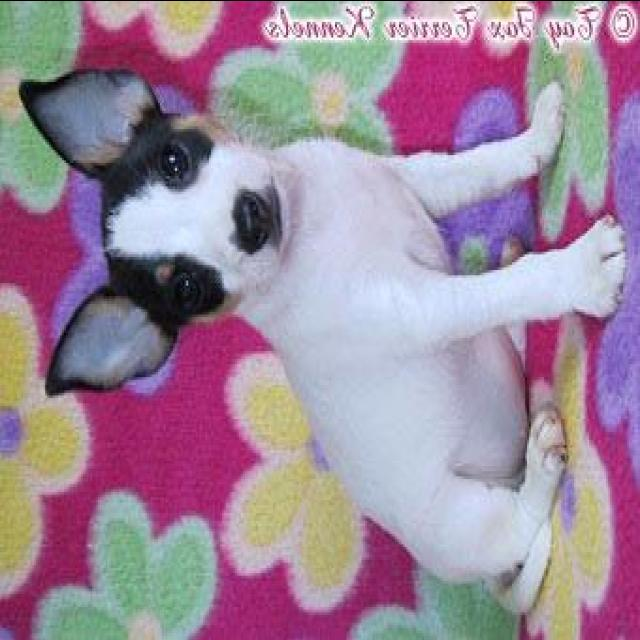toy_terrier: (15, 66, 631, 616)
